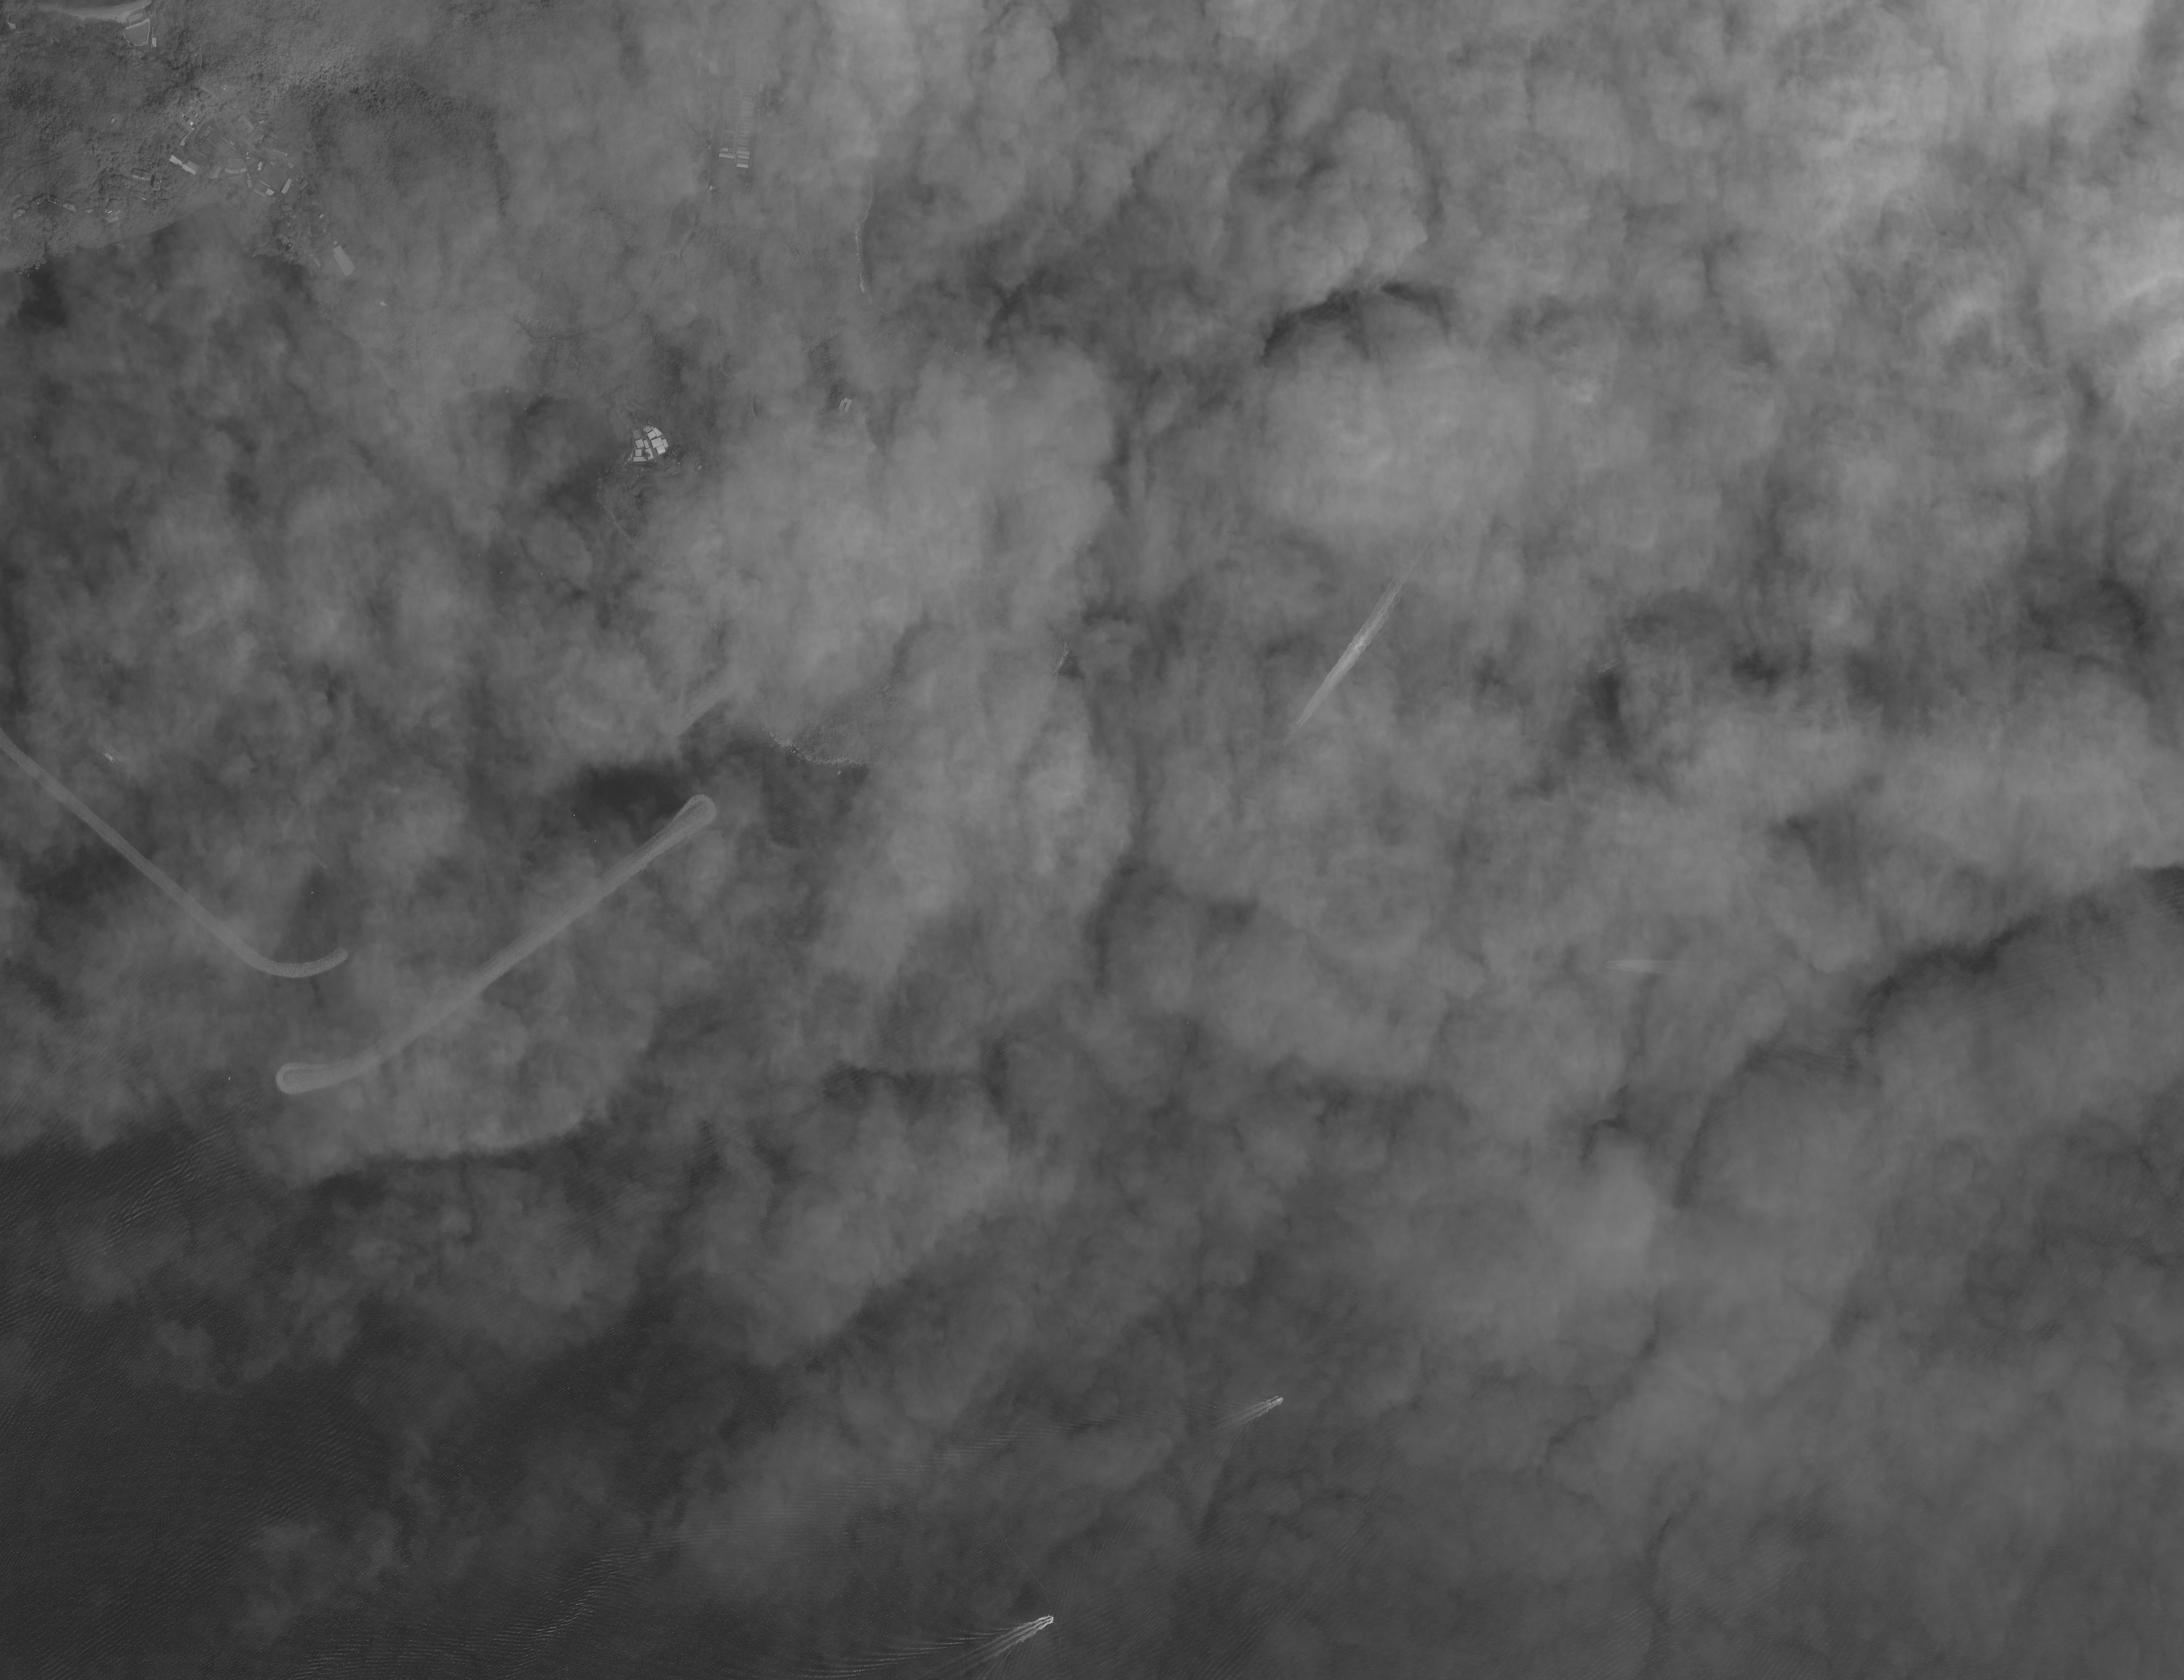ship: (104, 743, 127, 764), (1281, 724, 1302, 746), (312, 856, 328, 870), (101, 750, 115, 764), (1597, 664, 1612, 674), (1272, 1396, 1284, 1406), (1604, 962, 1618, 967), (1046, 1616, 1055, 1624)
